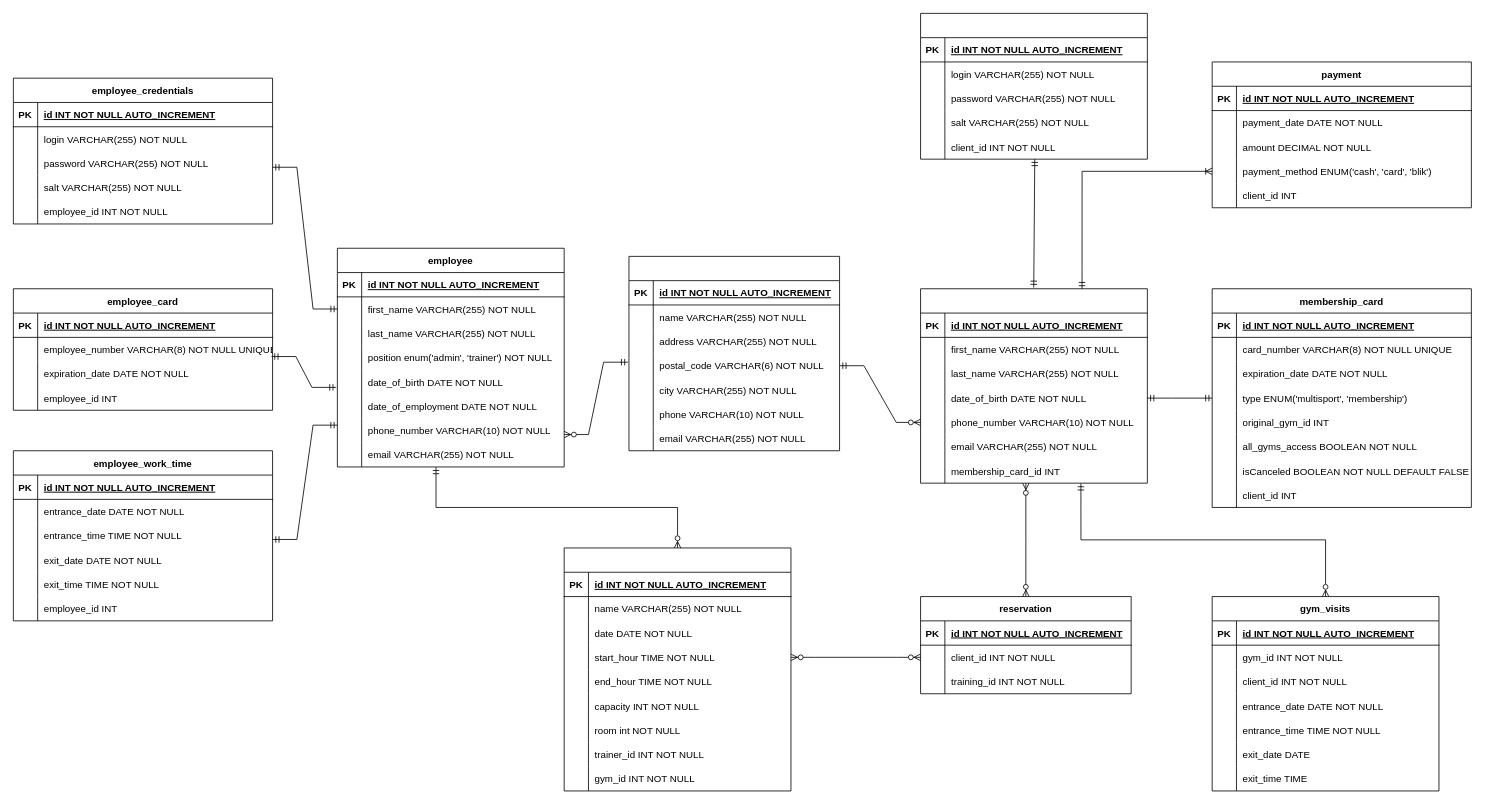
Some shapes in this 1485 by 804 pixel diagram are drawn without their labels. Each missing label, with the box of its shape:
client: (920, 288, 1147, 483)
client_credentials: (920, 13, 1147, 159)
gym: (628, 256, 840, 451)
training: (563, 547, 791, 791)
